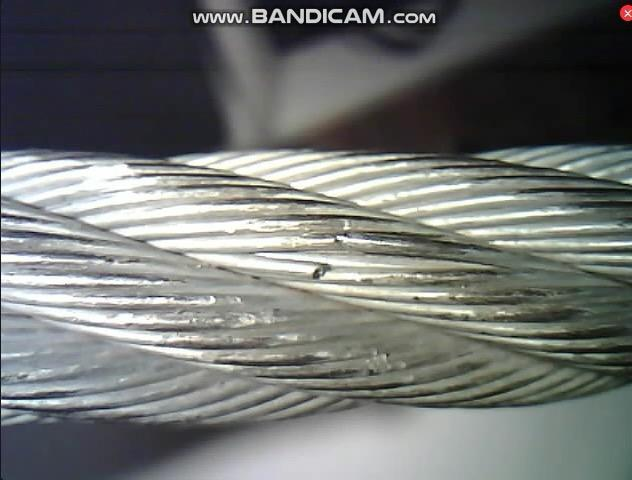break: (288, 235, 354, 300)
